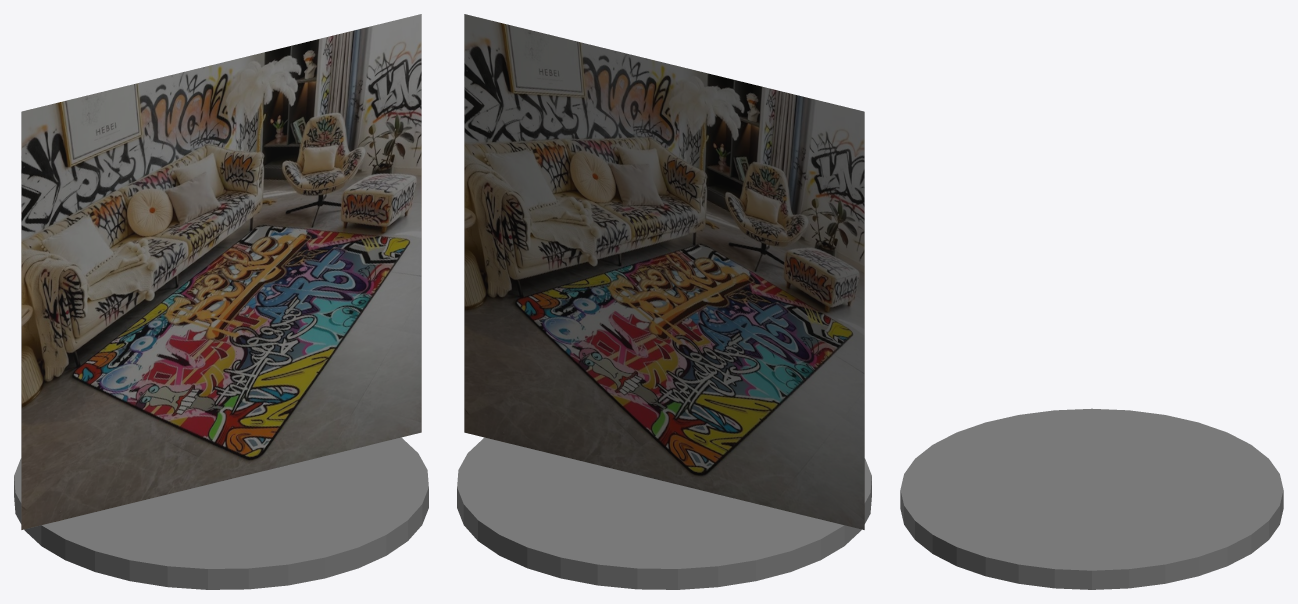
The picture shows the model from 3 angles, left to right: view 1: azimuth 30°, elevation 25°; view 2: azimuth 150°, elevation 25°; view 3: azimuth 270°, elevation 25°; orthographic projection. The views are drawn at different scales.
Visible parts, largest first — view 1: photo, base; view 2: photo, base; view 3: base.
Part boxes in pixels (left/top/right/bottom): photo: left=21, top=14, right=421, bottom=529; base: left=14, top=437, right=428, bottom=589; photo: left=464, top=14, right=864, bottom=529; base: left=457, top=437, right=871, bottom=589; base: left=900, top=408, right=1283, bottom=589.
Bounding box in the file's own units: 0.4 × 0.42 × 0.36.
1 material, 1 textured.
